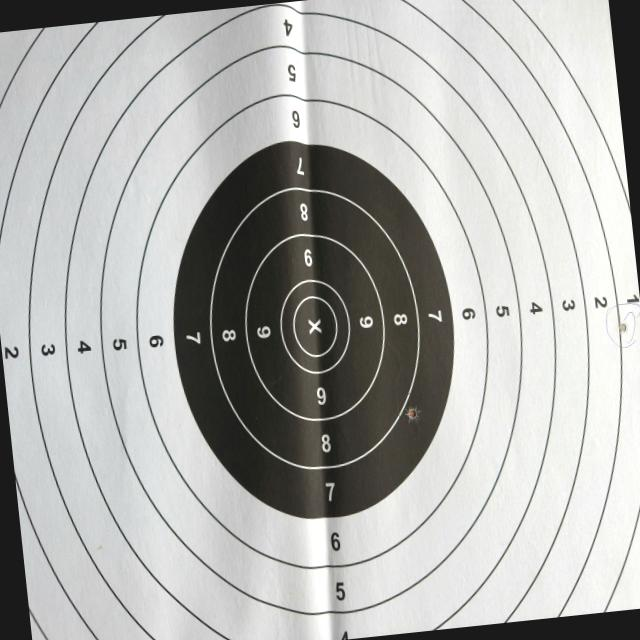bullet: (406, 407, 417, 418)
target: (0, 0, 640, 640)
